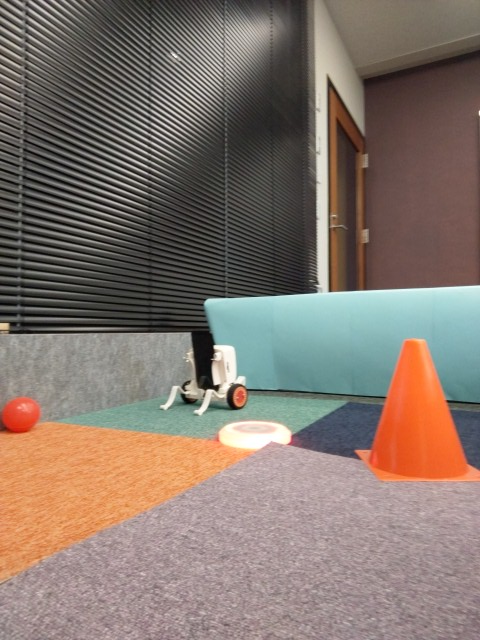bl: (160, 325, 250, 418)
r: (210, 416, 297, 452)
